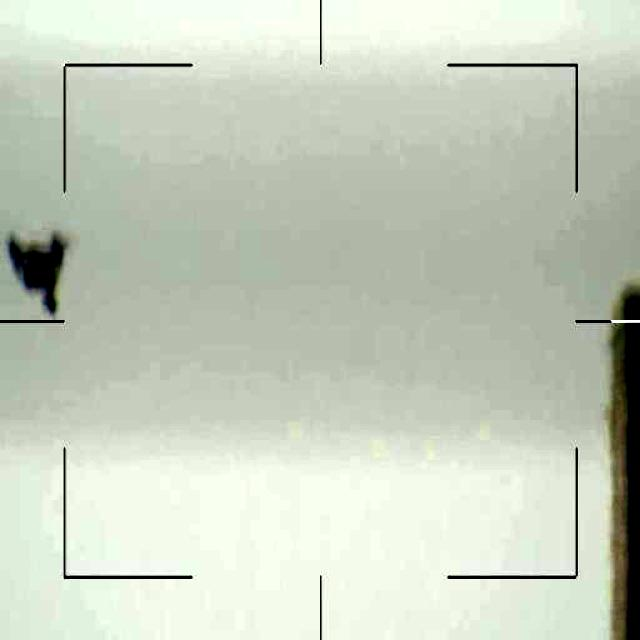bird: (5, 231, 69, 316)
